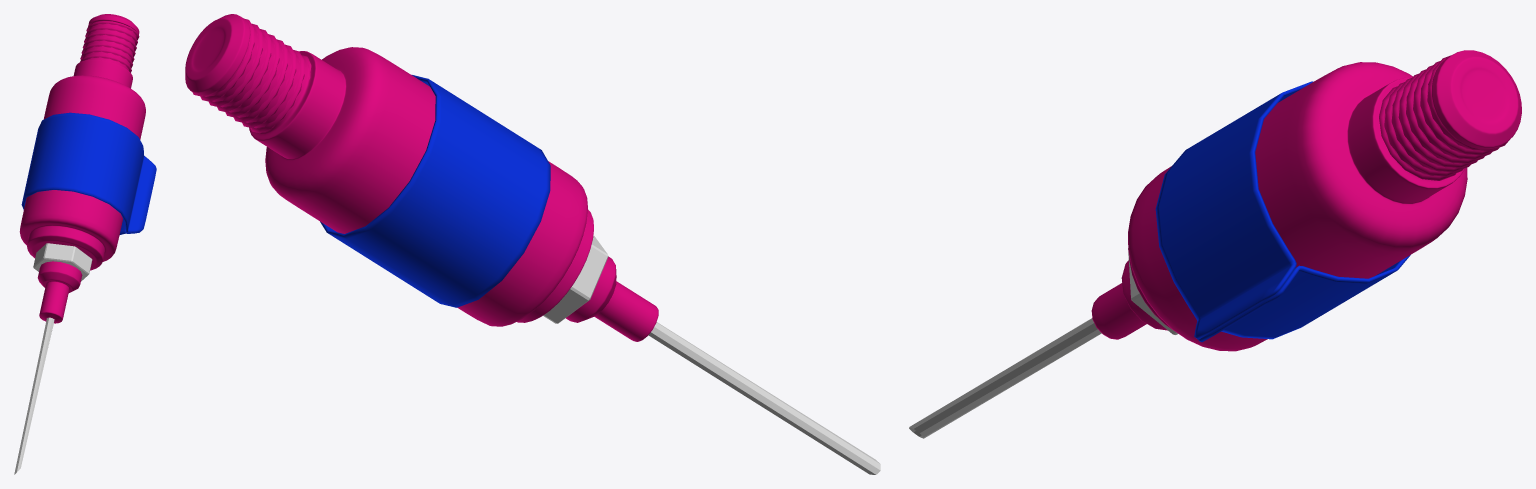
File: Needle Combined.fbx
3 renders of one model, left to right at view 1: azimuth 30°, elevation 25°; view 2: azimuth 150°, elevation 25°; view 3: azimuth 270°, elevation 25°, orthographic. The views are drawn at different scales.
Parts seen in each view (by area): view 1: 00-6 Right Needle, 00-6 Right Needle.002; view 2: 00-6 Right Needle, 00-6 Right Needle.002; view 3: 00-6 Right Needle, 00-6 Right Needle.002.
Boxes of the visible parts, x1,y1,x2,y2 form: 00-6 Right Needle: (19,14,156,323); 00-6 Right Needle.002: (14,317,54,474); 00-6 Right Needle: (185,14,658,341); 00-6 Right Needle.002: (648,322,880,474); 00-6 Right Needle: (1091,50,1521,351); 00-6 Right Needle.002: (909,318,1101,438).
Size of the model in its own units: 152 by 170 by 155.
